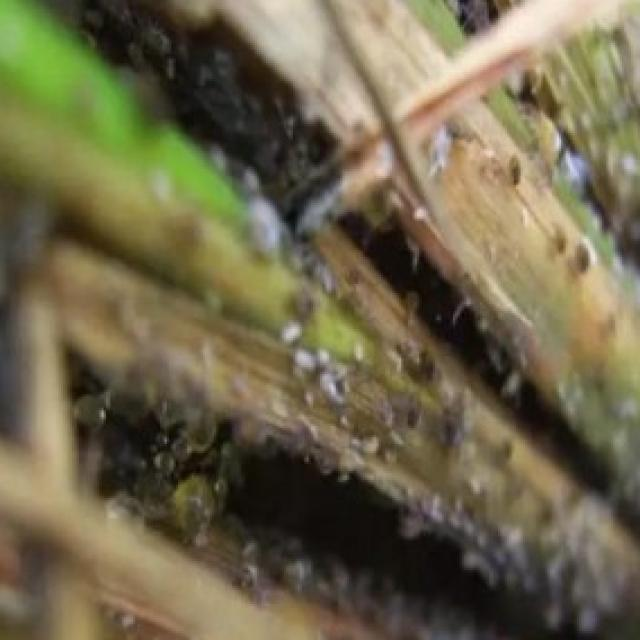brown plant hopper: (550, 223, 595, 275), (487, 153, 521, 187)
